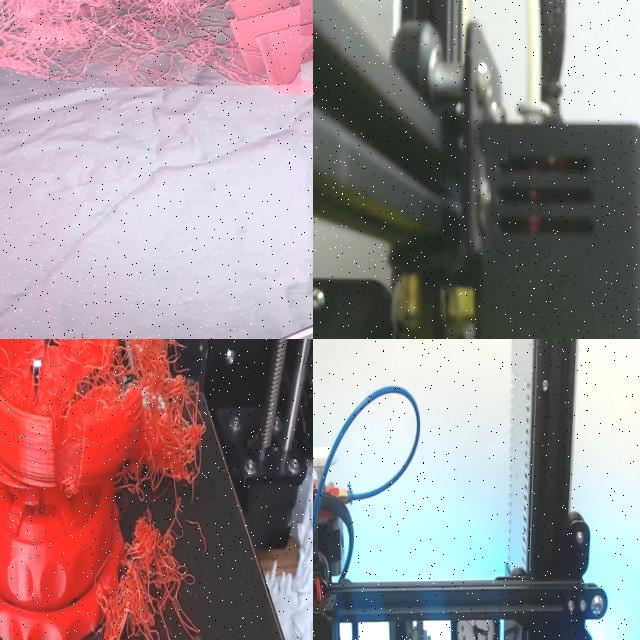spaghetti: (0, 339, 205, 640), (0, 0, 300, 90)
